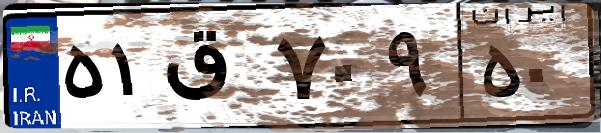0: (330, 28, 385, 110), (525, 38, 570, 115)
1: (110, 28, 158, 98)
5: (57, 26, 110, 100), (475, 38, 525, 113)
7: (270, 28, 330, 110)
9: (385, 28, 445, 110)
ق: (158, 20, 270, 120)
